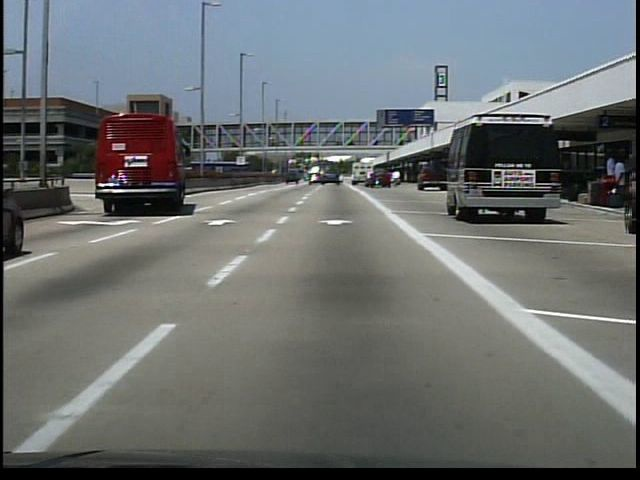person: (390, 168, 403, 191)
